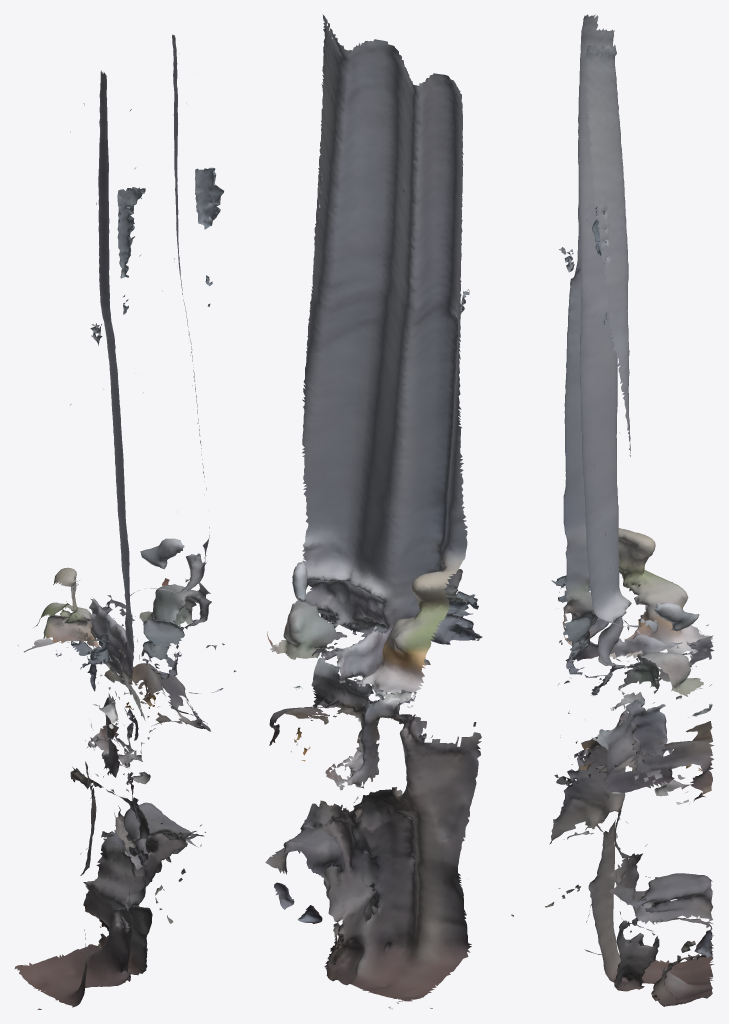
File: apartment-full-108-12781b3418ba.glb
The picture shows the model from 3 angles, left to right: view 1: azimuth 30°, elevation 25°; view 2: azimuth 150°, elevation 25°; view 3: azimuth 270°, elevation 25°; orthographic projection. The views are drawn at different scales.
Bounding box in the file's own units: 0.386 × 2.33 × 0.423.
